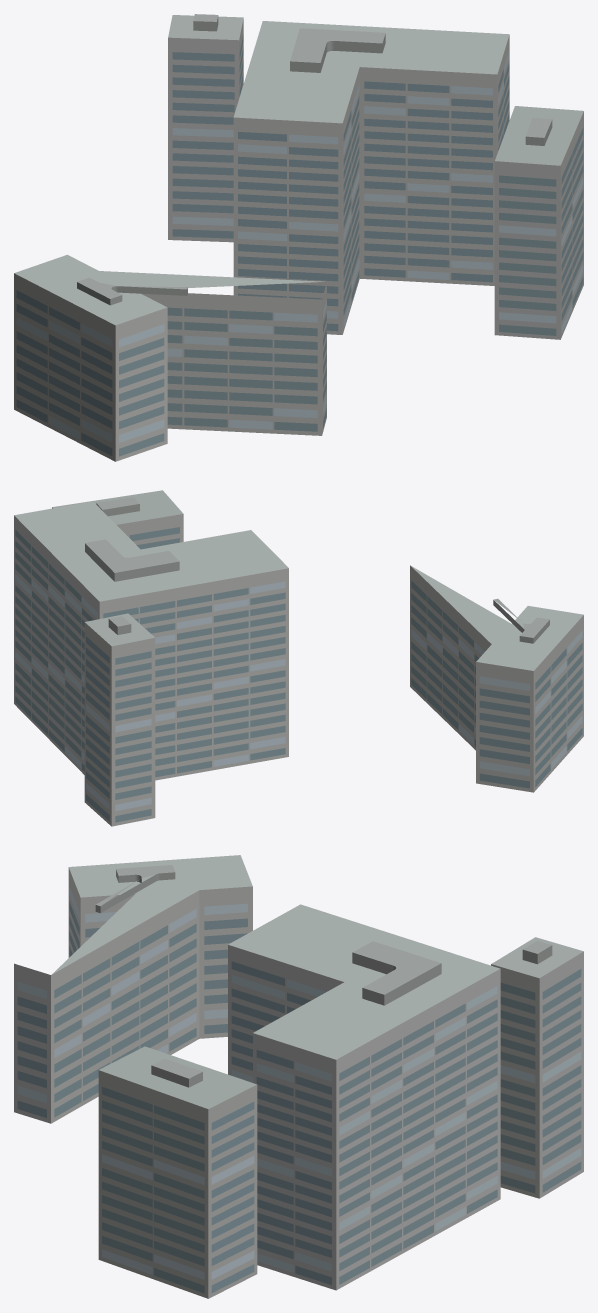
Rendered from apt-a13311101.glb.
The picture shows the model from 3 angles, top to bottom: view 1: azimuth 30°, elevation 25°; view 2: azimuth 150°, elevation 25°; view 3: azimuth 270°, elevation 25°; orthographic projection. The views are drawn at different scales.
Parts seen in each view (by area): view 1: apt-a13311101; view 2: apt-a13311101; view 3: apt-a13311101.
Part boxes in pixels (x1=…): apt-a13311101: x1=14, y1=14, x2=583, y2=461; apt-a13311101: x1=14, y1=490, x2=583, y2=826; apt-a13311101: x1=14, y1=855, x2=583, y2=1298.
Size of the model in its own units: 118 by 45 by 96.22.
